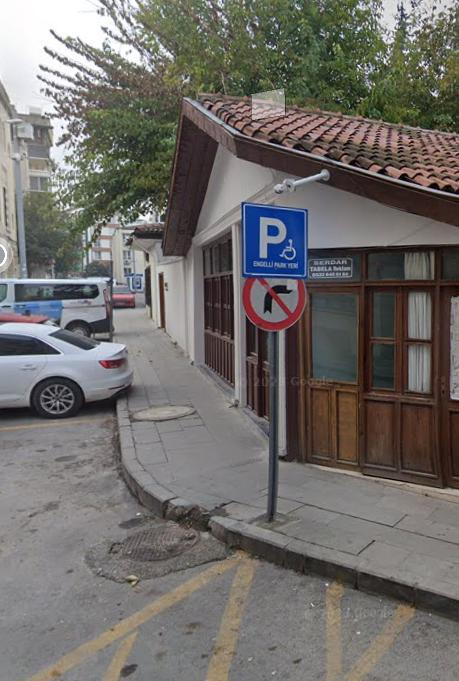disabledpark: (243, 212, 308, 277)
rightturnsareforbidden: (245, 276, 304, 329)
